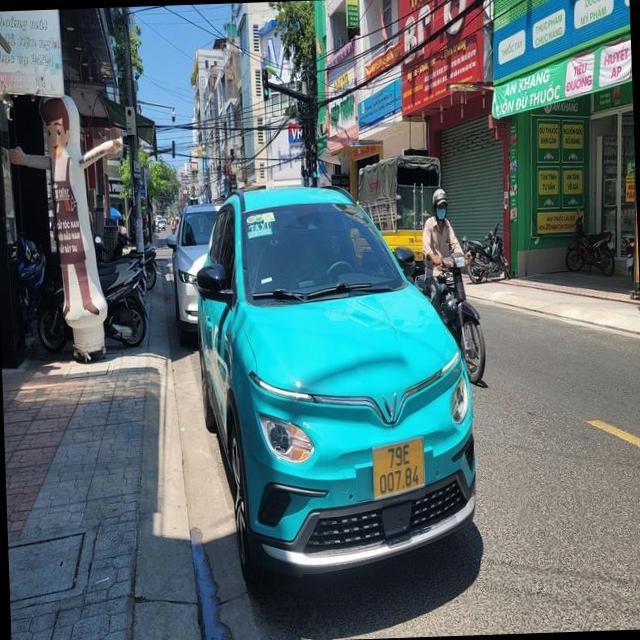car: (175, 188, 486, 588)
motorcycle: (418, 245, 486, 358)
plate: (367, 436, 431, 503)
